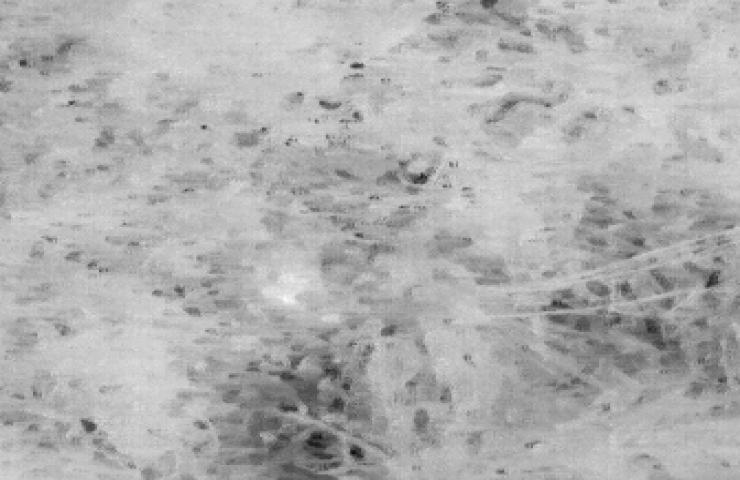landmines: (251, 248, 320, 306)
